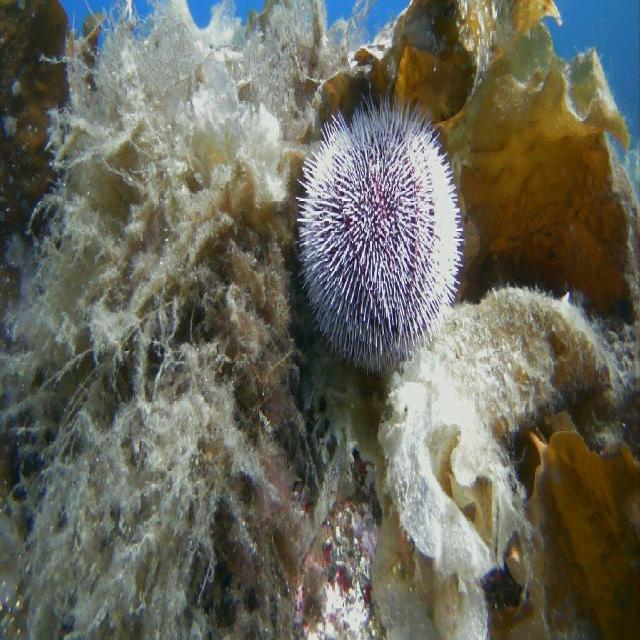Deniz Kestanesi: (295, 87, 465, 377)
